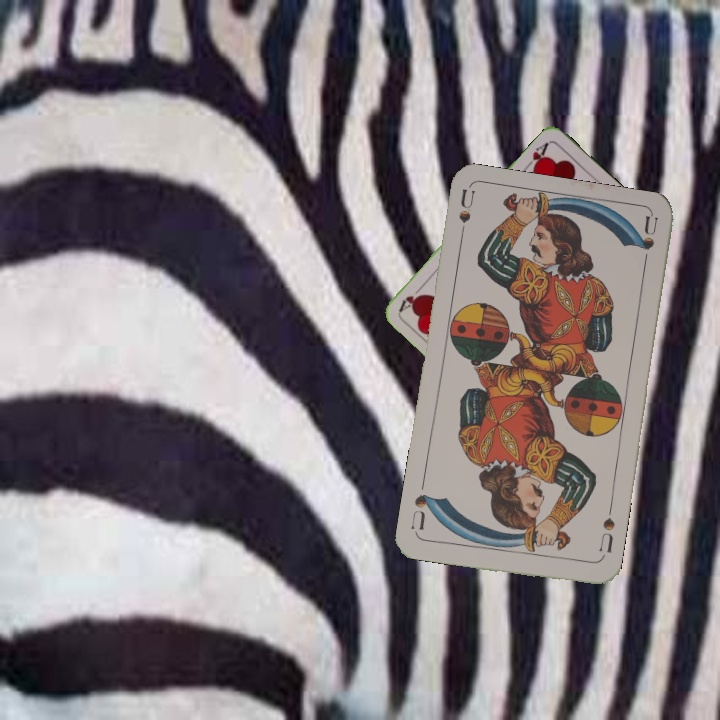HA: (521, 138, 551, 174)
SU: (454, 187, 477, 247), (595, 513, 618, 555)
